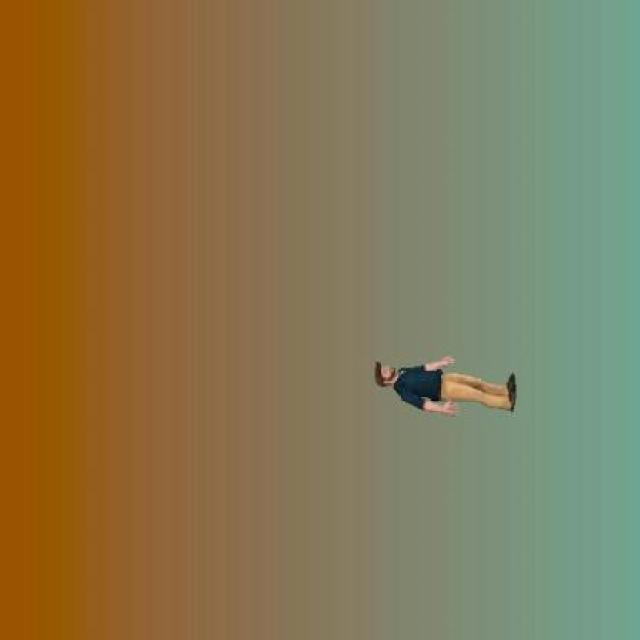Person: (374, 348, 520, 423)
